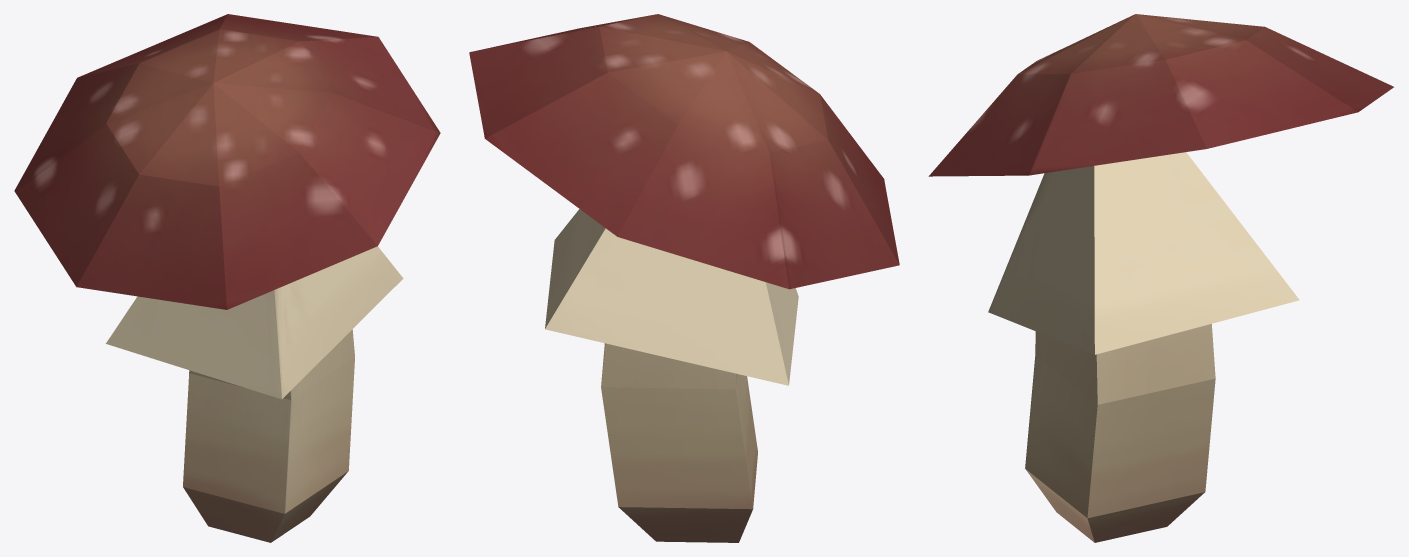
The model's file is fly-agaric-001-8.glb.
3 views of the same model, side by side, from view 1: azimuth 30°, elevation 25°; view 2: azimuth 150°, elevation 25°; view 3: azimuth 270°, elevation 25° (orthographic). The views are drawn at different scales.
Parts seen in each view (by area): view 1: fly_agaric.001_8; view 2: fly_agaric.001_8; view 3: fly_agaric.001_8.
Part boxes in pixels (x1,y1,x2,y2): fly_agaric.001_8: [14, 14, 440, 542]; fly_agaric.001_8: [469, 14, 899, 542]; fly_agaric.001_8: [928, 14, 1393, 542].
Bounding box in the file's own units: 2.22 × 2.76 × 2.35.
Materials: 1 (1 with a texture image).
